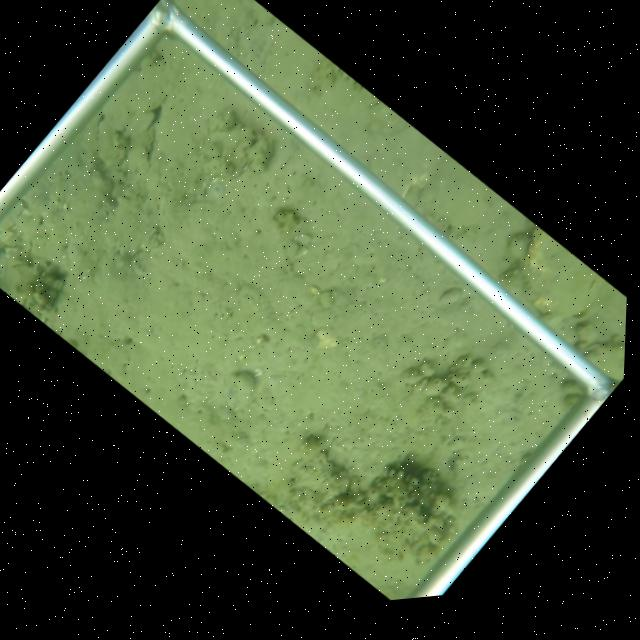Oyster-Indeterminate: (197, 103, 278, 184), (125, 112, 156, 178)
